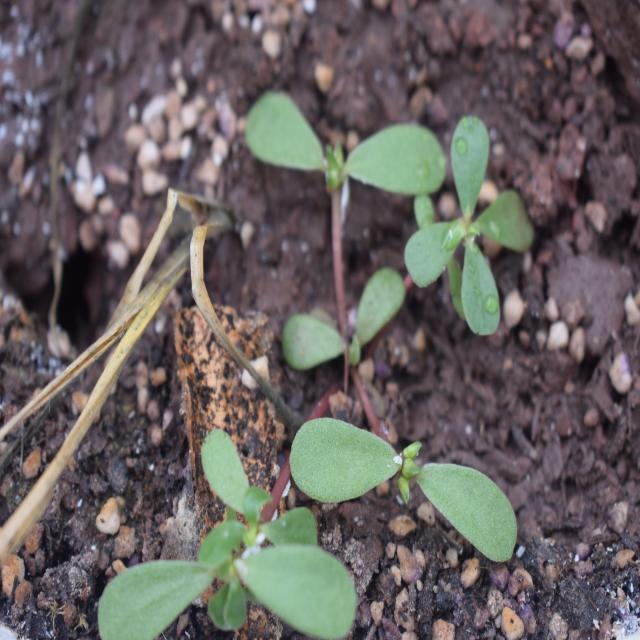purslane: (115, 93, 575, 630)
